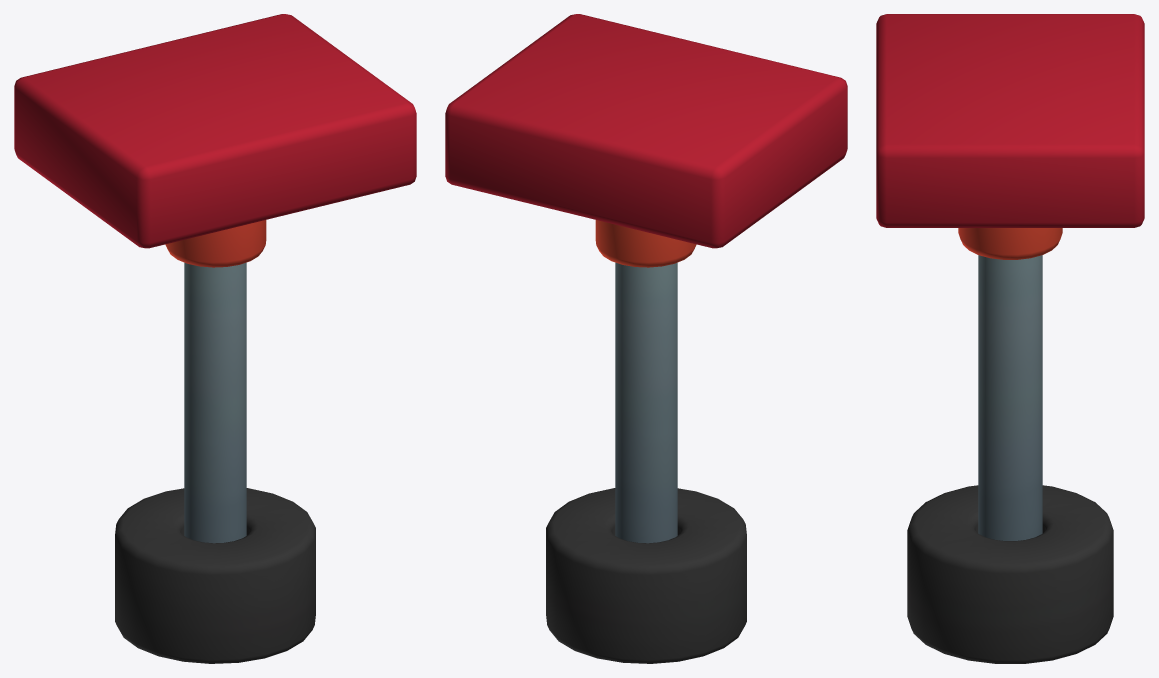
Rendered from PressMachine.fbx.
3 views of the same model, side by side, from view 1: azimuth 30°, elevation 25°; view 2: azimuth 150°, elevation 25°; view 3: azimuth 270°, elevation 25° (orthographic).
Visible parts, largest first — view 1: Cube.033, Cylinder.022, Cylinder.024, Cylinder.023; view 2: Cube.033, Cylinder.022, Cylinder.024, Cylinder.023; view 3: Cube.033, Cylinder.022, Cylinder.024, Cylinder.023.
Part boxes in pixels (box(x1,y1,x2,y2)): Cube.033: box(14, 14, 416, 248); Cylinder.022: box(115, 488, 315, 663); Cylinder.024: box(184, 262, 246, 543); Cylinder.023: box(165, 220, 266, 267); Cube.033: box(445, 14, 847, 248); Cylinder.022: box(546, 488, 746, 663); Cylinder.024: box(615, 262, 677, 543); Cylinder.023: box(595, 220, 696, 267); Cube.033: box(876, 14, 1144, 227); Cylinder.022: box(907, 485, 1113, 663); Cylinder.024: box(978, 255, 1042, 540); Cylinder.023: box(958, 228, 1062, 259).
Bounding box in the file's own units: 4.71 × 8.63 × 3.86.
